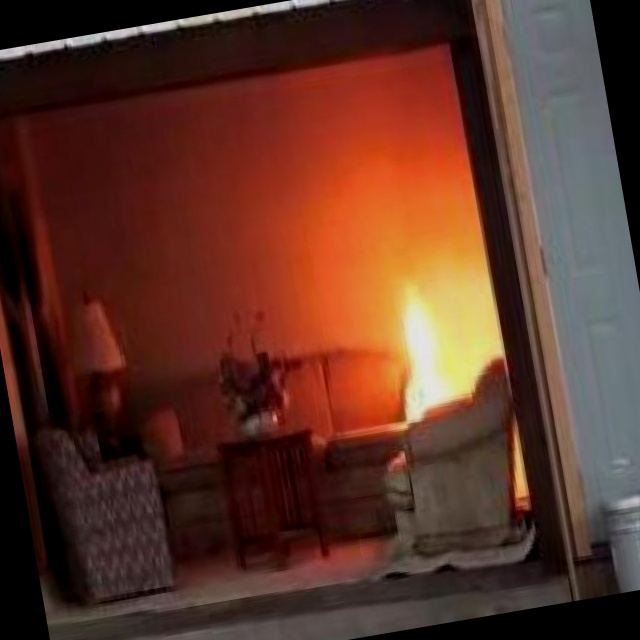fire: (368, 259, 468, 426)
